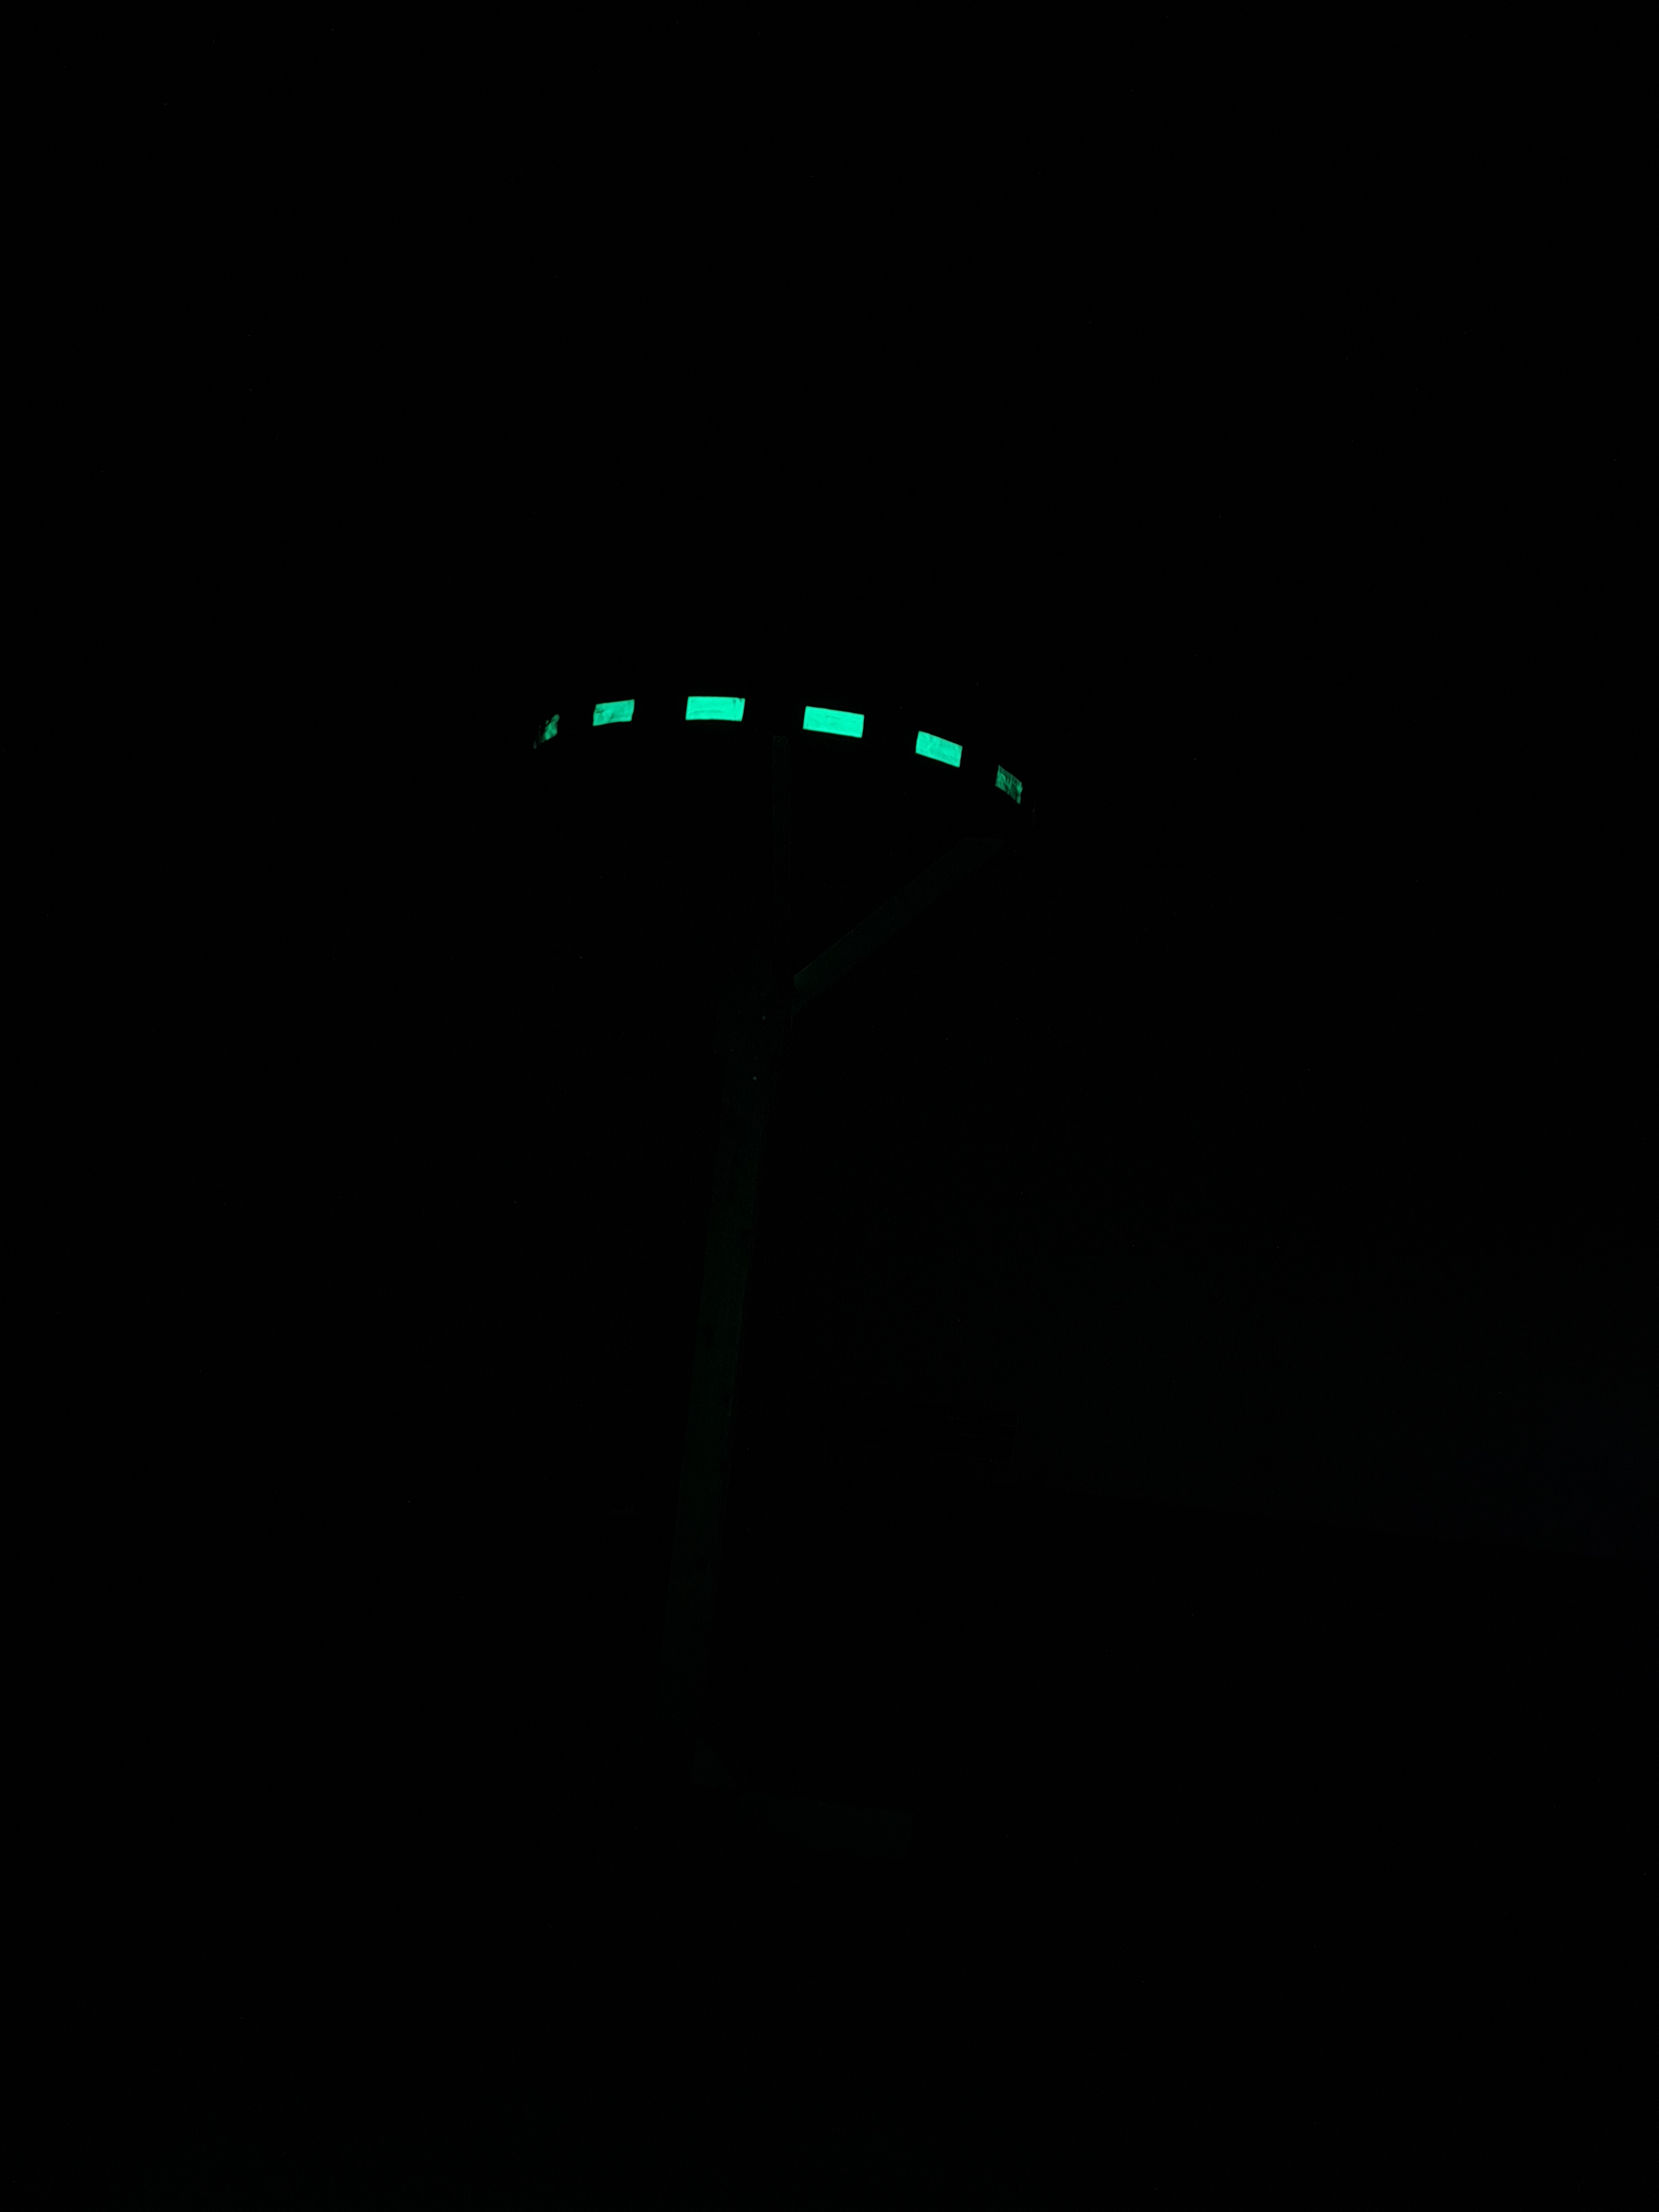hoop: (516, 667, 1060, 834)
